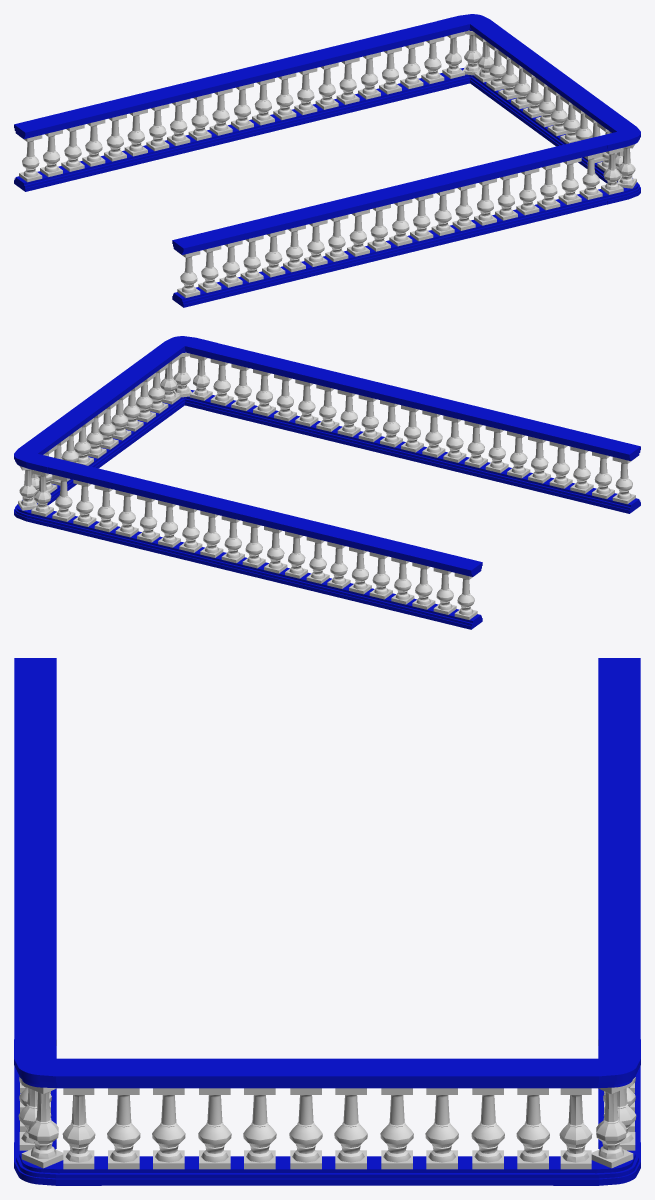
The model's file is Catacomb Giris Handrail (1).fbx.
3 views of the same model, one above another, from view 1: azimuth 30°, elevation 25°; view 2: azimuth 150°, elevation 25°; view 3: azimuth 270°, elevation 25° (orthographic). The views are drawn at different scales.
Visible parts, largest first — view 1: Küpeşte.001, Küpeşte.002, Küpeşte tekli.001; view 2: Küpeşte.001, Küpeşte.002, Küpeşte tekli.001; view 3: Küpeşte.002, Küpeşte.001, Küpeşte tekli.001.
Part boxes in pixels (x1=…): Küpeşte.001: x1=14, y1=21, x2=606, y2=307; Küpeşte.002: x1=481, y1=28, x2=623, y2=181; Küpeşte tekli.001: x1=438, y1=14, x2=640, y2=204; Küpeşte.001: x1=48, y1=343, x2=640, y2=629; Küpeşte.002: x1=31, y1=350, x2=172, y2=504; Küpeşte tekli.001: x1=14, y1=336, x2=216, y2=526; Küpeşte.002: x1=100, y1=1058, x2=555, y2=1185; Küpeşte.001: x1=14, y1=658, x2=640, y2=1148; Küpeşte tekli.001: x1=14, y1=1039, x2=640, y2=1185.
Bounding box in the file's own units: 3001 × 366 × 1901.
